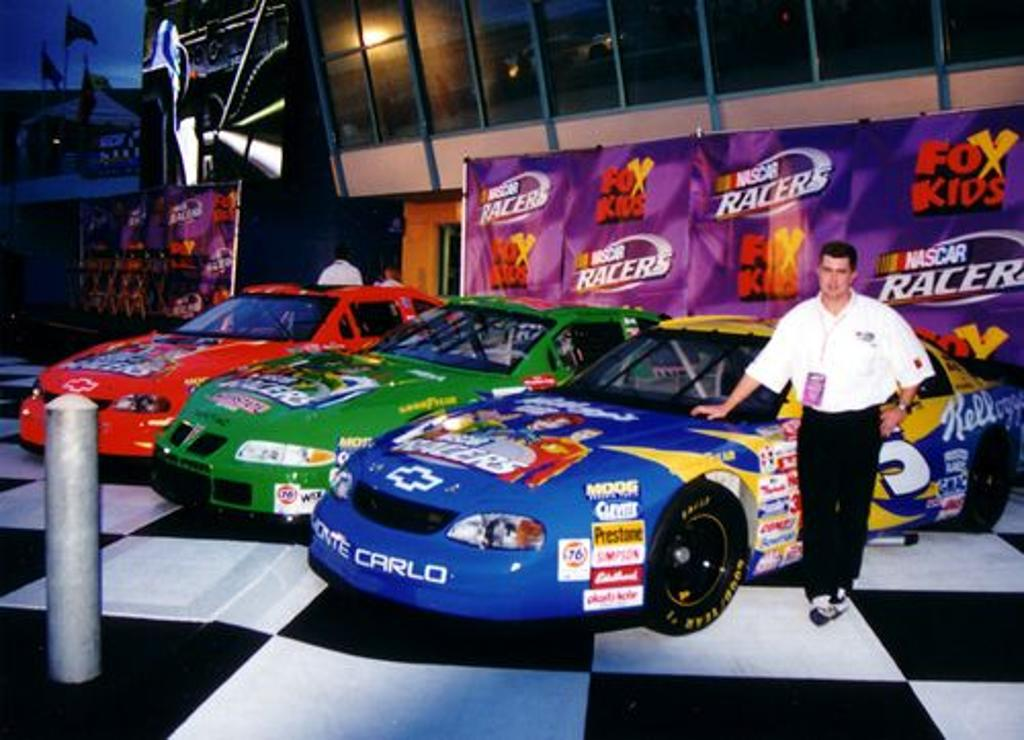face: (822, 255, 851, 298)
